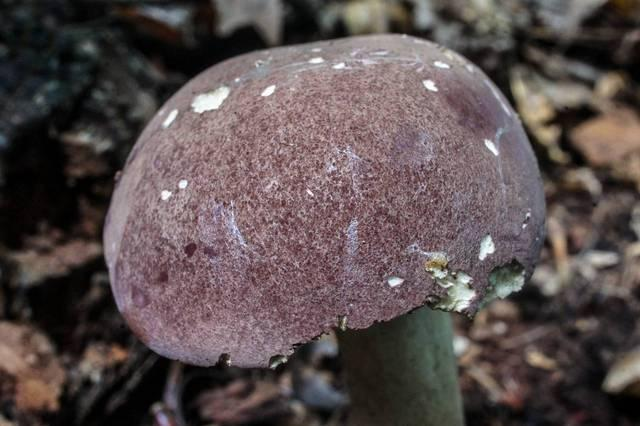poisonous_mushroom: (100, 31, 548, 423)
